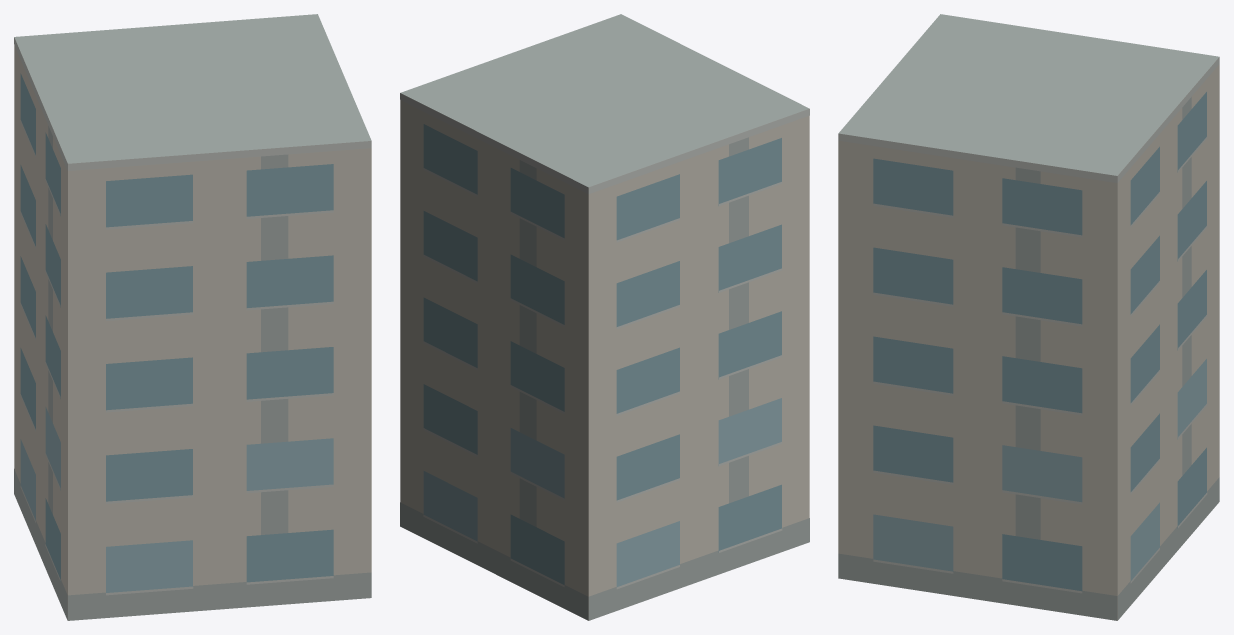
The model's file is residential-647a6dcf-134c-45f9-983f-56dbaf14882e.glb.
3 renders of one model, left to right at view 1: azimuth 30°, elevation 25°; view 2: azimuth 150°, elevation 25°; view 3: azimuth 270°, elevation 25°, orthographic. The views are drawn at different scales.
Parts seen in each view (by area): view 1: residential-647a6dcf-134c-45f9-983f-56dbaf14882e.tmp; view 2: residential-647a6dcf-134c-45f9-983f-56dbaf14882e.tmp; view 3: residential-647a6dcf-134c-45f9-983f-56dbaf14882e.tmp.
Boxes of the visible parts, x1,y1,x2,y2 form: residential-647a6dcf-134c-45f9-983f-56dbaf14882e.tmp: (14,14,371,620); residential-647a6dcf-134c-45f9-983f-56dbaf14882e.tmp: (400,14,809,620); residential-647a6dcf-134c-45f9-983f-56dbaf14882e.tmp: (838,14,1219,620).
Size of the model in its own units: 11.92 by 15.25 by 11.86.
